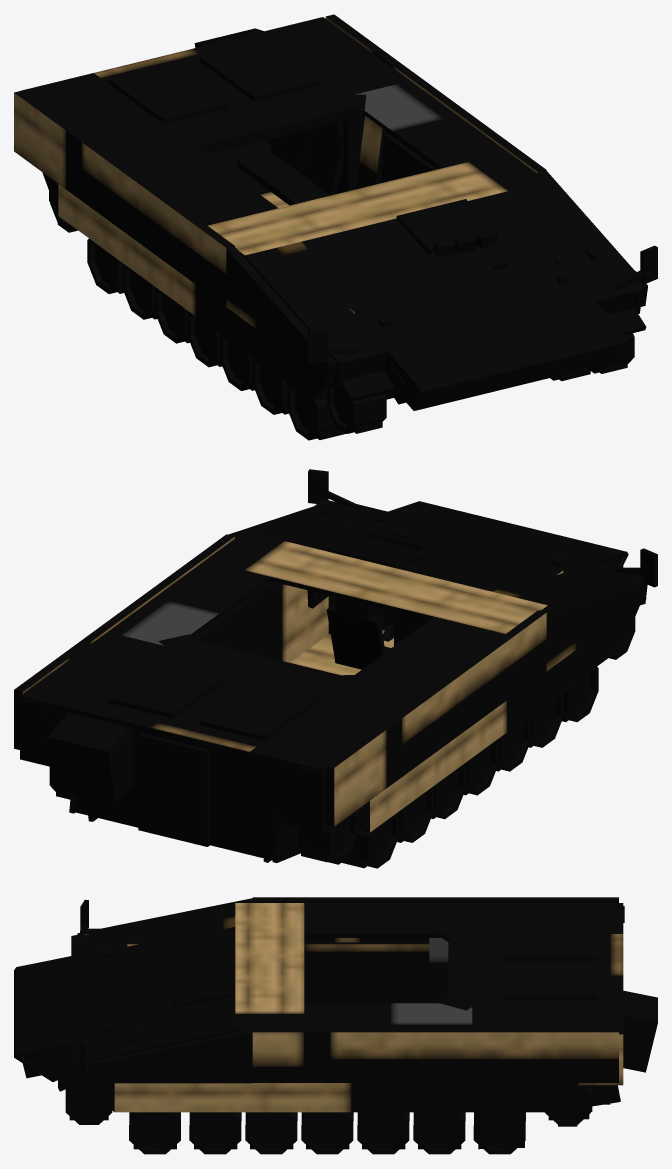
3 views of the same model, one above another, from view 1: azimuth 30°, elevation 25°; view 2: azimuth 150°, elevation 25°; view 3: azimuth 270°, elevation 25° (orthographic). The views are drawn at different scales.
Parts seen in each view (by area): view 1: body, w10, w11, w12, w17, w14, w16, w13, w15, w1; view 2: body, w18, w17, w16, w11, w15, w13, w12, w14; view 3: body, w3, w5, w6, w4, w7, w8, w2, w1, w9.
Part boxes in pixels (x1,y1,x2,y2): body: (14,14,657,410); w10: (327,383,386,433); w11: (287,385,345,440); w12: (252,359,288,414); w17: (87,238,123,293); w14: (187,312,222,367); w16: (122,264,157,319); w13: (220,335,254,390); w15: (155,288,189,343); w1: (588,333,634,373); body: (14,469,657,862); w18: (297,814,357,864); w17: (342,813,398,868); w16: (397,787,433,842); w11: (562,667,598,722); w15: (431,763,466,819); w13: (496,716,531,771); w12: (528,692,563,747); w14: (463,740,498,795); body: (14,897,657,1112); w3: (189,1112,241,1154); w5: (301,1112,353,1154); w6: (357,1112,409,1154); w4: (245,1112,297,1154); w7: (413,1112,465,1154); w8: (473,1112,525,1154); w2: (129,1112,180,1154); w1: (65,1085,112,1124); w9: (545,1085,592,1126).
Bounding box in the file's own units: 5.03 × 2.15 × 9.34.
